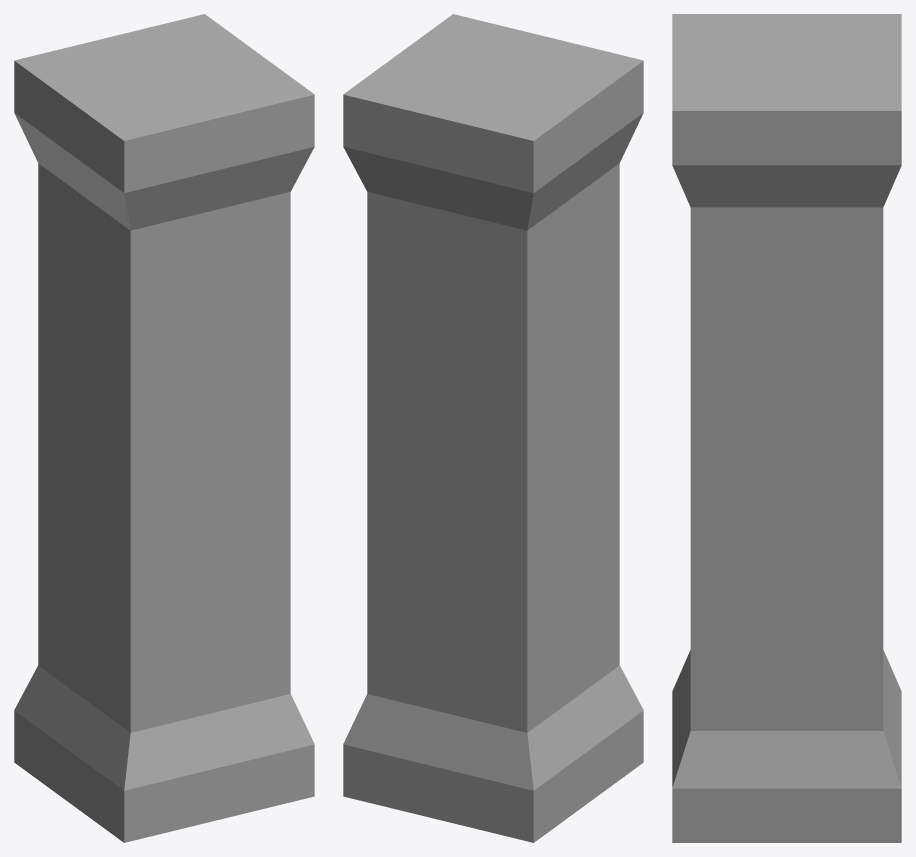
Rendered from pillar_001.glb.
3 renders of one model, left to right at view 1: azimuth 30°, elevation 25°; view 2: azimuth 150°, elevation 25°; view 3: azimuth 270°, elevation 25°, orthographic. The views are drawn at different scales.
Parts seen in each view (by area): view 1: pillar.001; view 2: pillar.001; view 3: pillar.001.
Boxes of the visible parts, x1=… form: pillar.001: x1=14, y1=14, x2=314, y2=842; pillar.001: x1=343, y1=14, x2=643, y2=842; pillar.001: x1=672, y1=14, x2=901, y2=842.
Size of the model in its own units: 0.4398 by 1.55 by 0.4398.
1 material, 1 textured.
